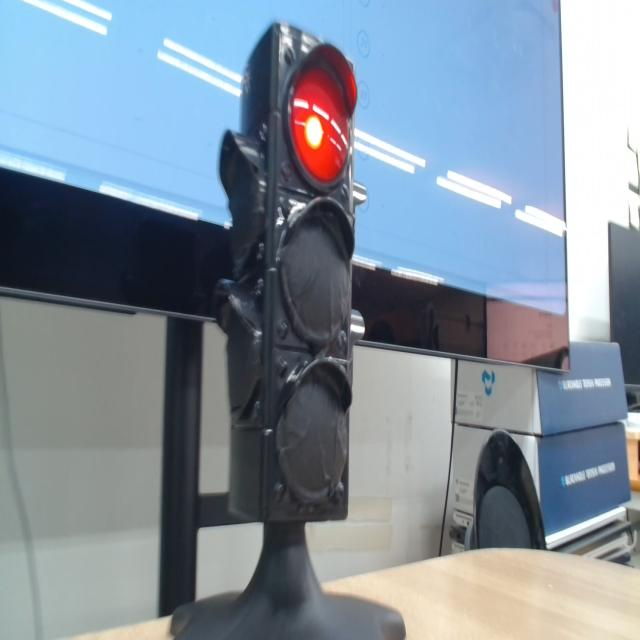red_light: (290, 66, 348, 183)
